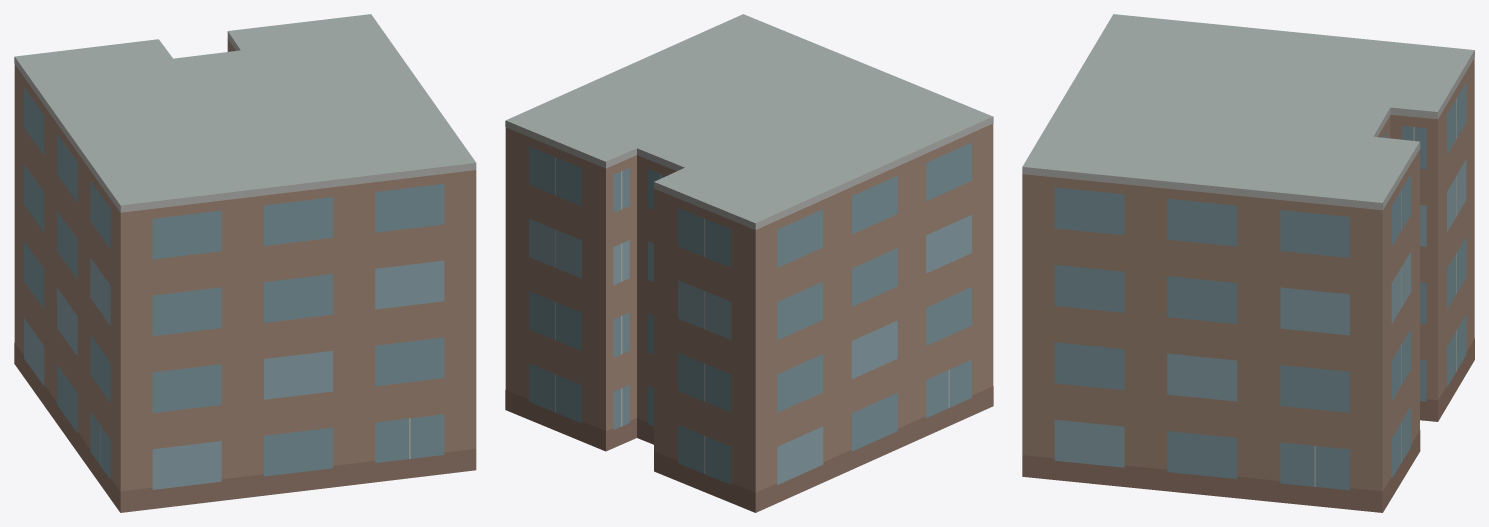
The model's file is survey-upis-32806385.glb.
3 views of the same model, side by side, from view 1: azimuth 30°, elevation 25°; view 2: azimuth 150°, elevation 25°; view 3: azimuth 270°, elevation 25° (orthographic). The views are drawn at different scales.
Parts seen in each view (by area): view 1: survey-upis-32806385.tmp; view 2: survey-upis-32806385.tmp; view 3: survey-upis-32806385.tmp.
Boxes of the visible parts, x1,y1,x2,y2 form: survey-upis-32806385.tmp: (14, 14, 476, 512); survey-upis-32806385.tmp: (505, 14, 993, 512); survey-upis-32806385.tmp: (1022, 14, 1474, 512).
Bounding box in the file's own units: 13.71 × 10.47 × 13.87.
